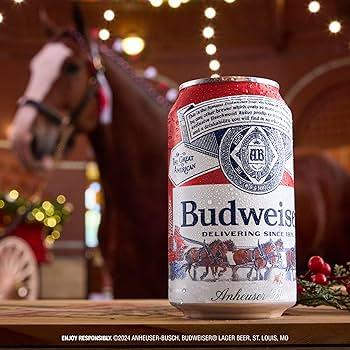lata: (165, 75, 297, 318)
